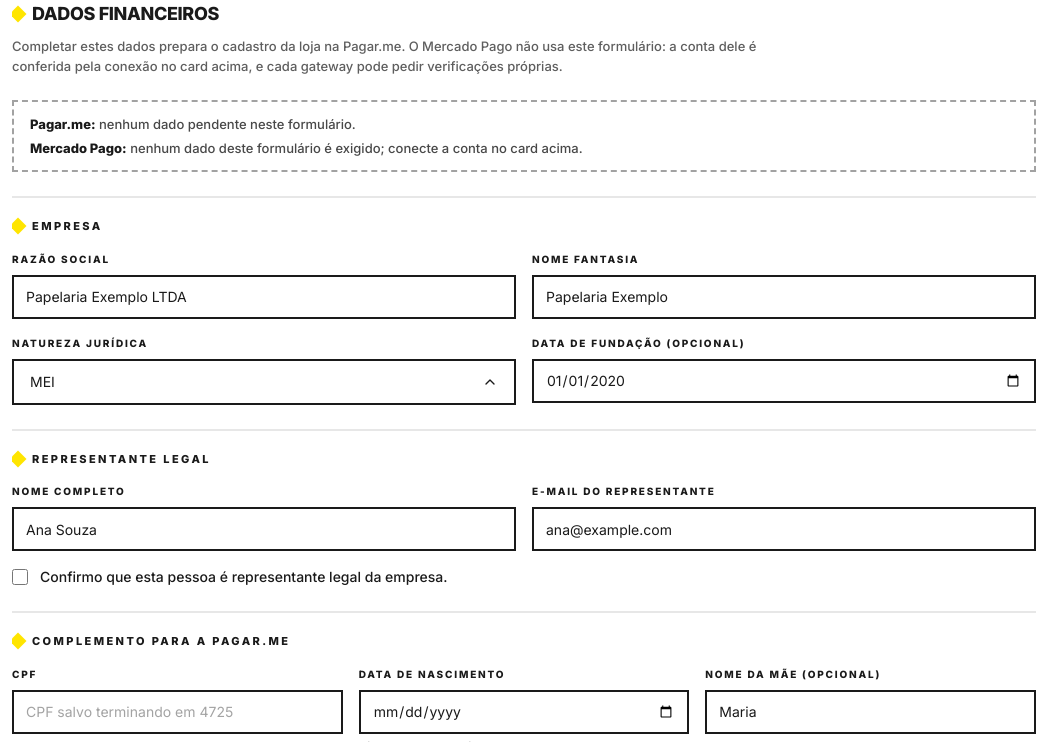
Test: VendorFinancialProfileForm › conflito de versão pede para recarregar
The width and height of the screenshot is (1048, 742).
Type " 2" into the field labelled "Nome fantasia" at (784, 296), box x1=532 y1=274 x2=1036 y2=318
(page scrolled)
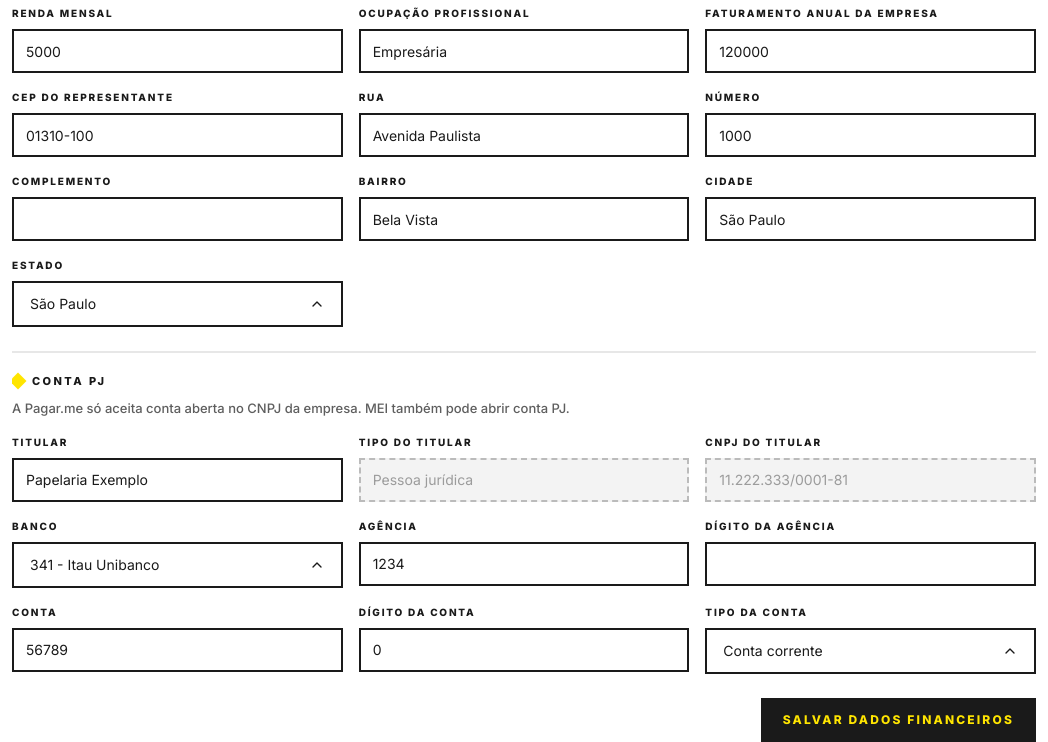
Click the button "Salvar dados financeiros" at (898, 720), box x1=761 y1=698 x2=1036 y2=741
(page scrolled)
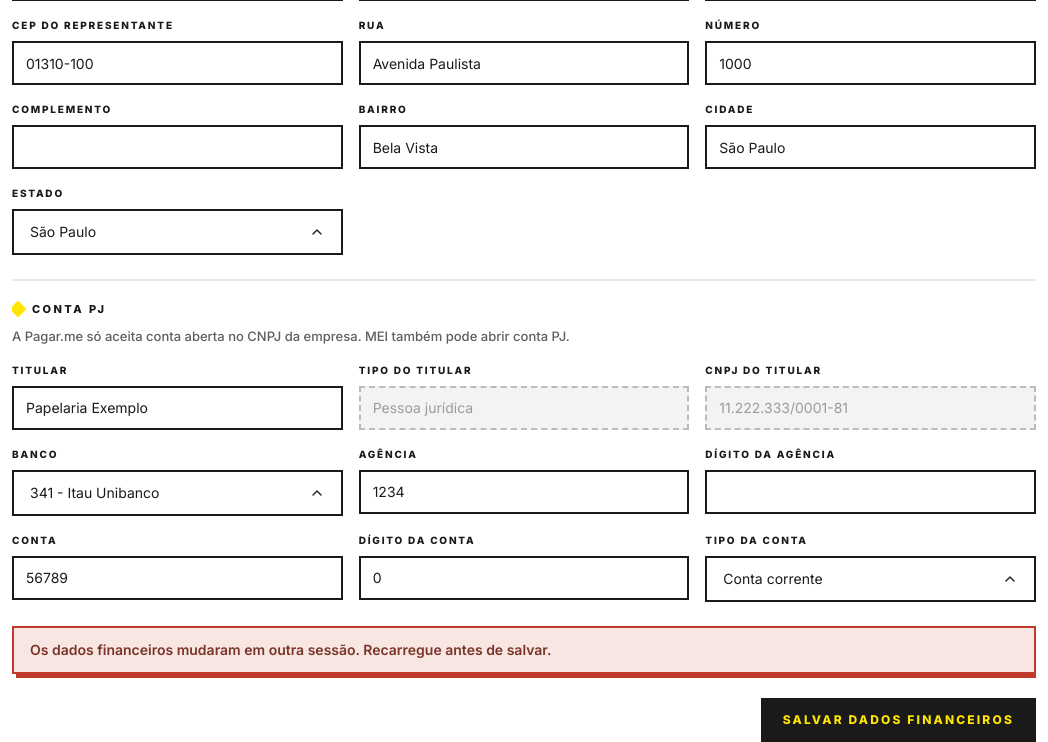
Now the message shows "Recarregue antes de salvar", box x1=30 y1=640 x2=552 y2=658
